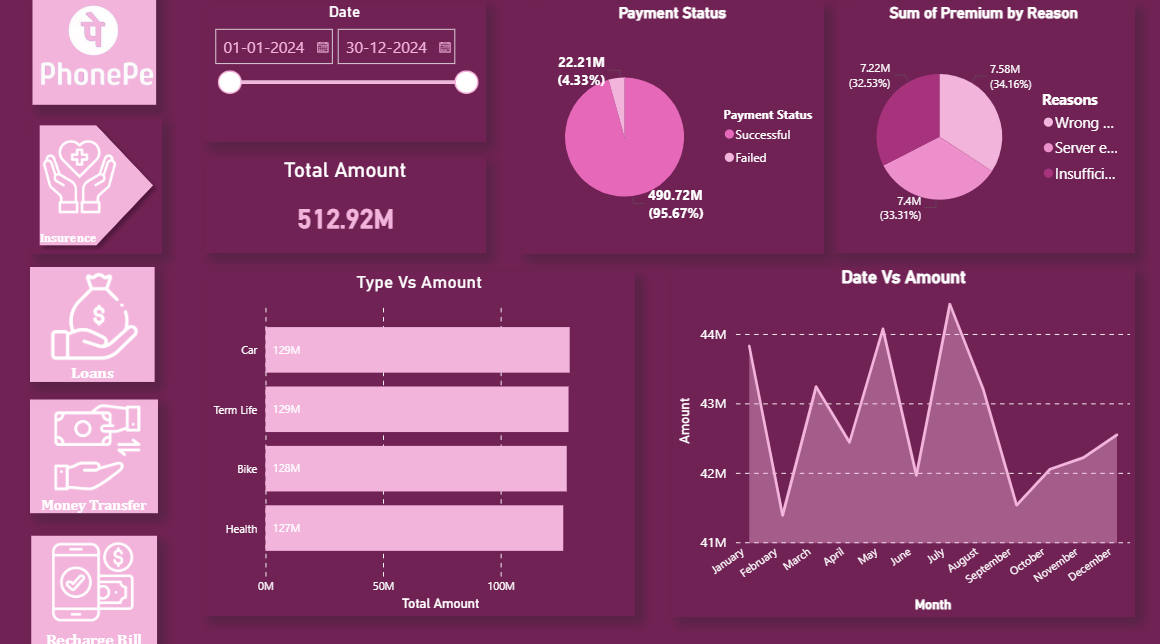

The page's visual inventory and layout, read from the dashboard file:
{"tool":"powerbi","page":{"name":"Insurence","canvas":[1280,720],"ordinal":1},"visuals":[{"type":"shape","box":[41.7,0,135.7,123.8],"z":0},{"type":"shape","box":[38.1,447.6,140.5,125],"z":1000},{"type":"shape","box":[39.3,596.4,138.1,123.8],"z":2000},{"type":"shape","box":[38.1,302.4,136.9,126.2],"z":3000},{"type":"image","box":[41.2,0,142.7,123.5],"z":4000},{"type":"image","box":[56,302.4,109.5,106],"z":5000},{"type":"image","box":[56,447.6,111.9,104.8],"z":6000},{"type":"image","box":[54.8,583.3,104.8,128.6],"z":7000},{"type":"slicer","title":"Date","fields":{"Values":["Insurance.Date"]},"box":[229.5,11.4,309.3,153.9],"z":8000},{"type":"pieChart","title":"Payment Status ","fields":{"Category":["Insurance.Payment_Status"],"Y":["Sum(Insurance.Premium)"]},"box":[577.4,11.9,332.1,275],"z":9000},{"type":"pieChart","fields":{"Y":["Sum(Insurance.Premium)"],"Category":["Insurance.Reason"]},"box":[919.4,12.3,332.1,274.4],"z":10000},{"type":"areaChart","title":"Date Vs Amount","fields":{"Category":["Insurance.Date.Variation.Date Hierarchy.Month"],"Y":["Sum(Insurance.Premium)"]},"box":[743.7,301.9,507.7,384.2],"z":11000},{"type":"card","title":"Total Amount ","fields":{"Values":["Sum(Insurance.Premium)"]},"box":[230.9,181,307.9,105.5],"z":12000},{"type":"barChart","title":"Type Vs Amount","fields":{"Y":["Sum(Insurance.Premium)"],"Category":["Insurance.Insurance_Type"]},"box":[230.5,308.7,473.4,377.4],"z":13000},{"type":"shape","box":[38.4,149.6,135.8,124.9],"z":14000},{"type":"image","box":[38.4,164.7,108.4,94.7],"z":15000}]}

Visuals, with their boxes in screenshot pixels (x1, y1, x2, y2), scaled from the page's 1280x720 canvas onto the 1160x644 screenshot:
shape: l=38, t=0, r=161, b=111
shape: l=35, t=400, r=162, b=512
shape: l=36, t=533, r=161, b=643
shape: l=35, t=270, r=159, b=383
image: l=37, t=0, r=167, b=110
image: l=51, t=270, r=150, b=365
image: l=51, t=400, r=152, b=494
image: l=50, t=522, r=145, b=637
"Date" slicer: l=208, t=10, r=488, b=148
"Payment Status " pieChart: l=523, t=11, r=824, b=257
pieChart - Sum(Insurance.Premium) x Insurance.Reason: l=833, t=11, r=1134, b=256
"Date Vs Amount" areaChart: l=674, t=270, r=1134, b=614
"Total Amount " card: l=209, t=162, r=488, b=256
"Type Vs Amount" barChart: l=209, t=276, r=638, b=614
shape: l=35, t=134, r=158, b=246
image: l=35, t=147, r=133, b=232
